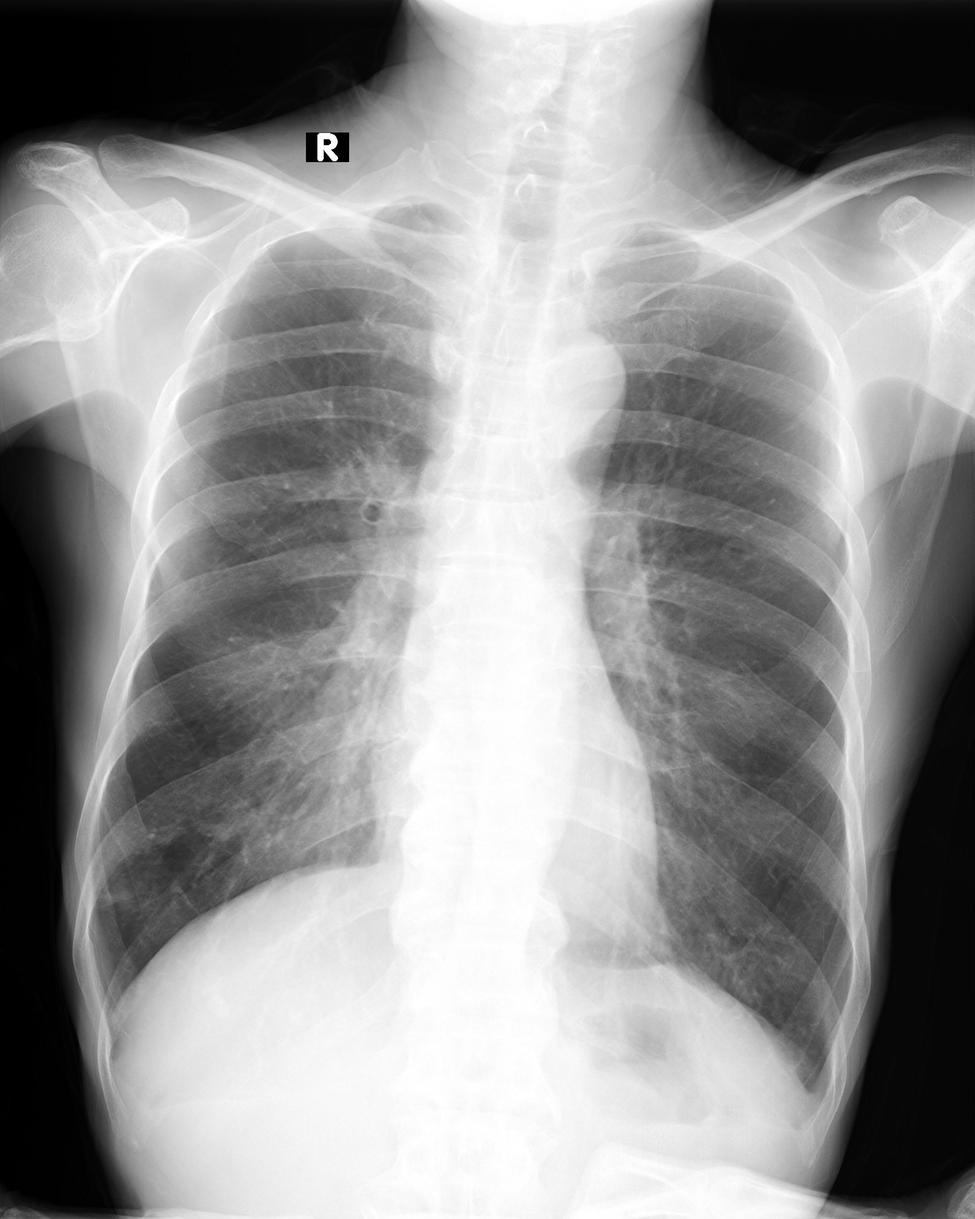Pleural thickening: (789, 1059, 842, 1122)
